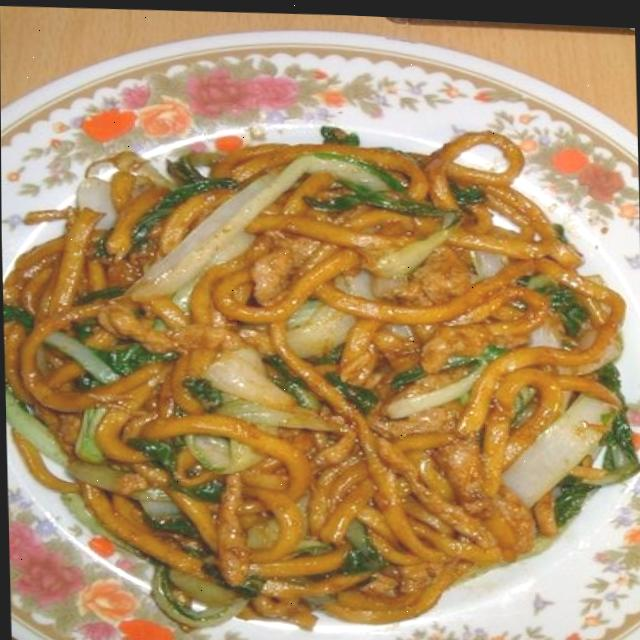面条主食: (0, 22, 640, 640)
